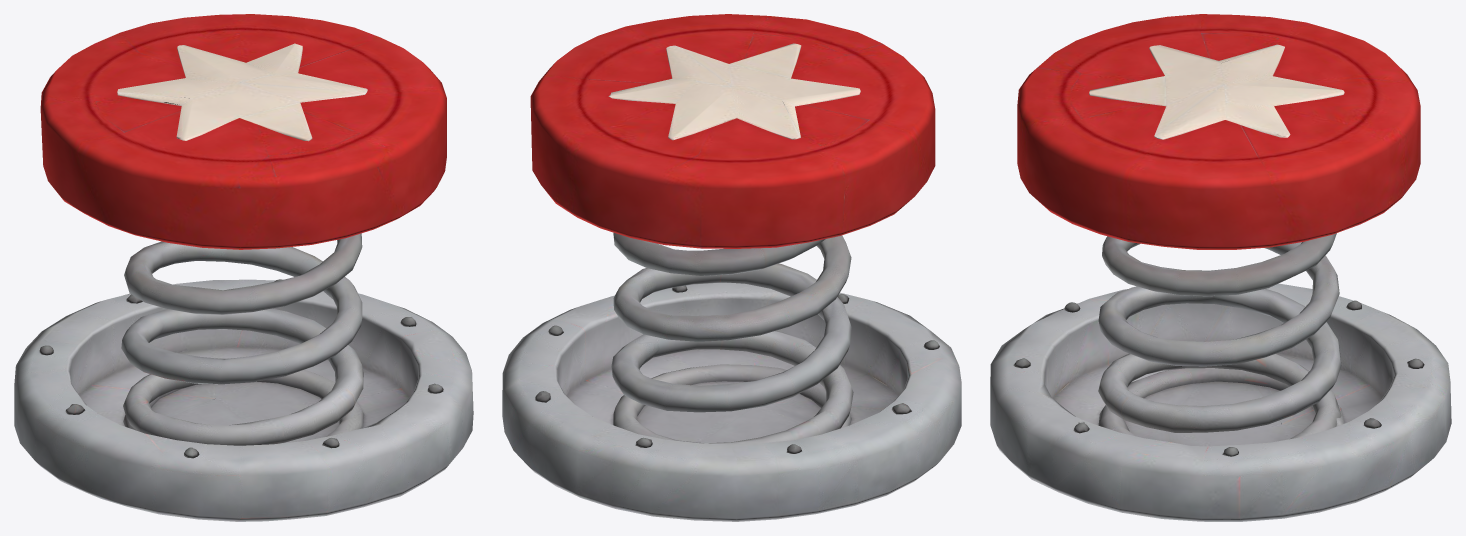
Rendered from spring.glb.
3 views of the same model, side by side, from view 1: azimuth 30°, elevation 25°; view 2: azimuth 150°, elevation 25°; view 3: azimuth 270°, elevation 25° (orthographic).
Visible parts, largest first — view 1: geometry_0; view 2: geometry_0; view 3: geometry_0.
Boxes of the visible parts, bbox=[...] form: geometry_0: bbox=[14, 14, 473, 521]; geometry_0: bbox=[502, 14, 961, 521]; geometry_0: bbox=[990, 14, 1451, 521].
Bounding box in the file's own units: 0.605 × 0.5073 × 0.6099.
Materials: 1 (1 with a texture image).
